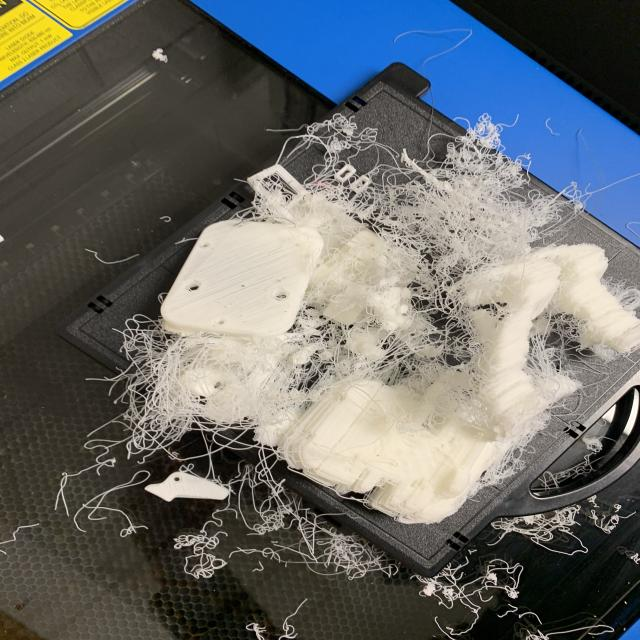spaghetti: (98, 104, 640, 582)
